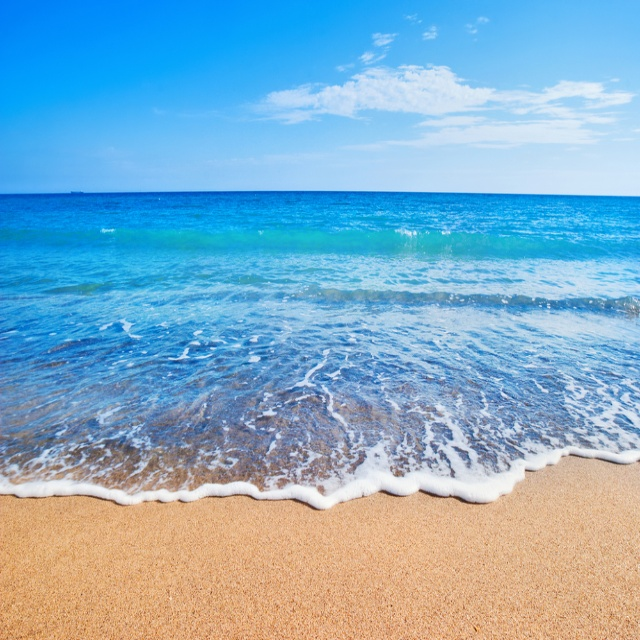linhaEspraiamento: (3, 412, 636, 536)
